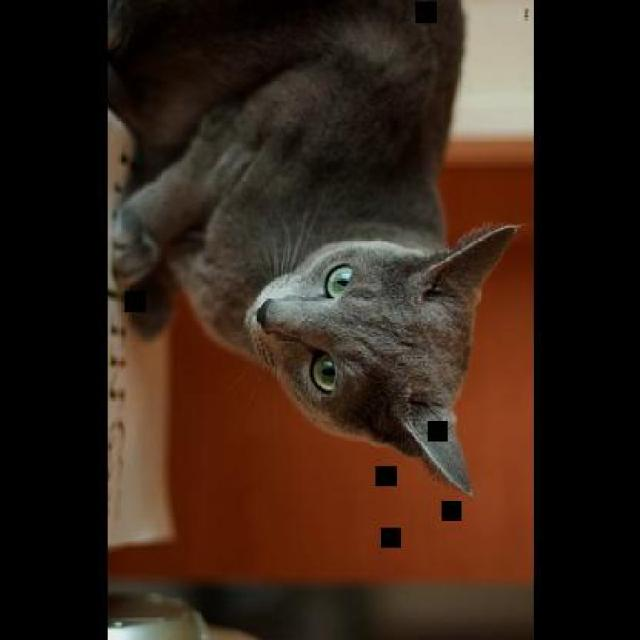unauthorized: (106, 0, 522, 497)
